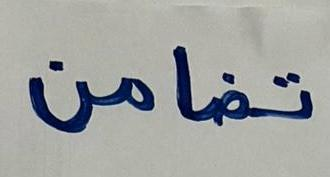alef: (168, 43, 200, 152)
dad: (203, 61, 256, 148)
meem: (103, 59, 161, 130)
noon: (19, 45, 99, 145)
teh: (258, 57, 319, 141)
